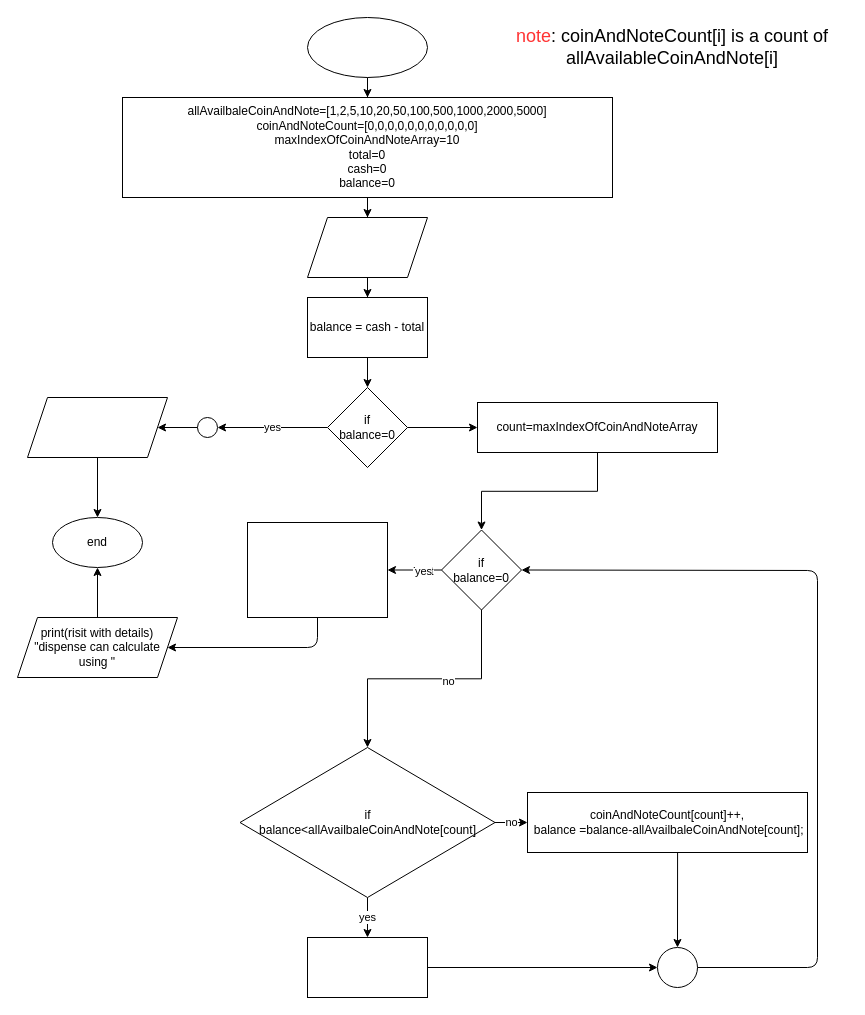
Image size: 865x1015. Some labels were removed from this diagram. The centre of each missing label's shape, as x and y in pixels:
"count--" goes at [367,967].
"find dispense method using allAvailbaleCoinAndNote and coinAndNoteCount arrays" goes at [317,570].
"print(resit with zero balance)" goes at [97,427].
"start" goes at [367,47].
"total, cash" goes at [367,247].
